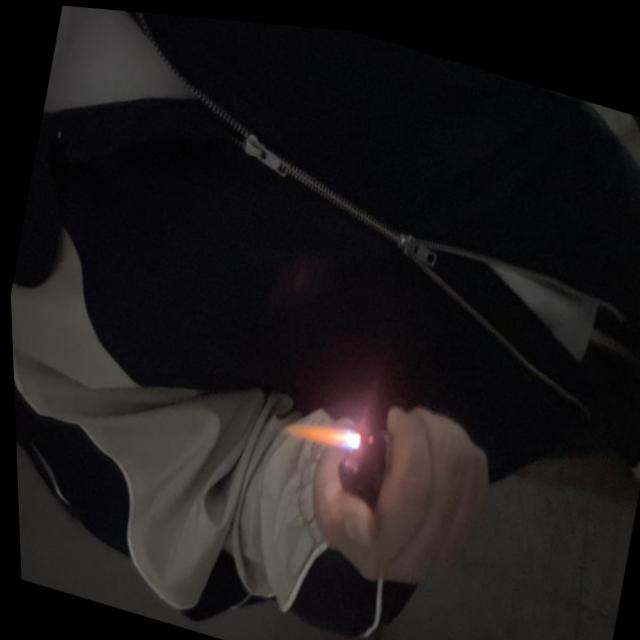Fire: (283, 402, 352, 448)
